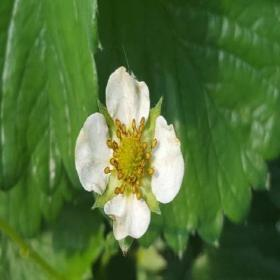Blossom Blight: (101, 115, 159, 201)
